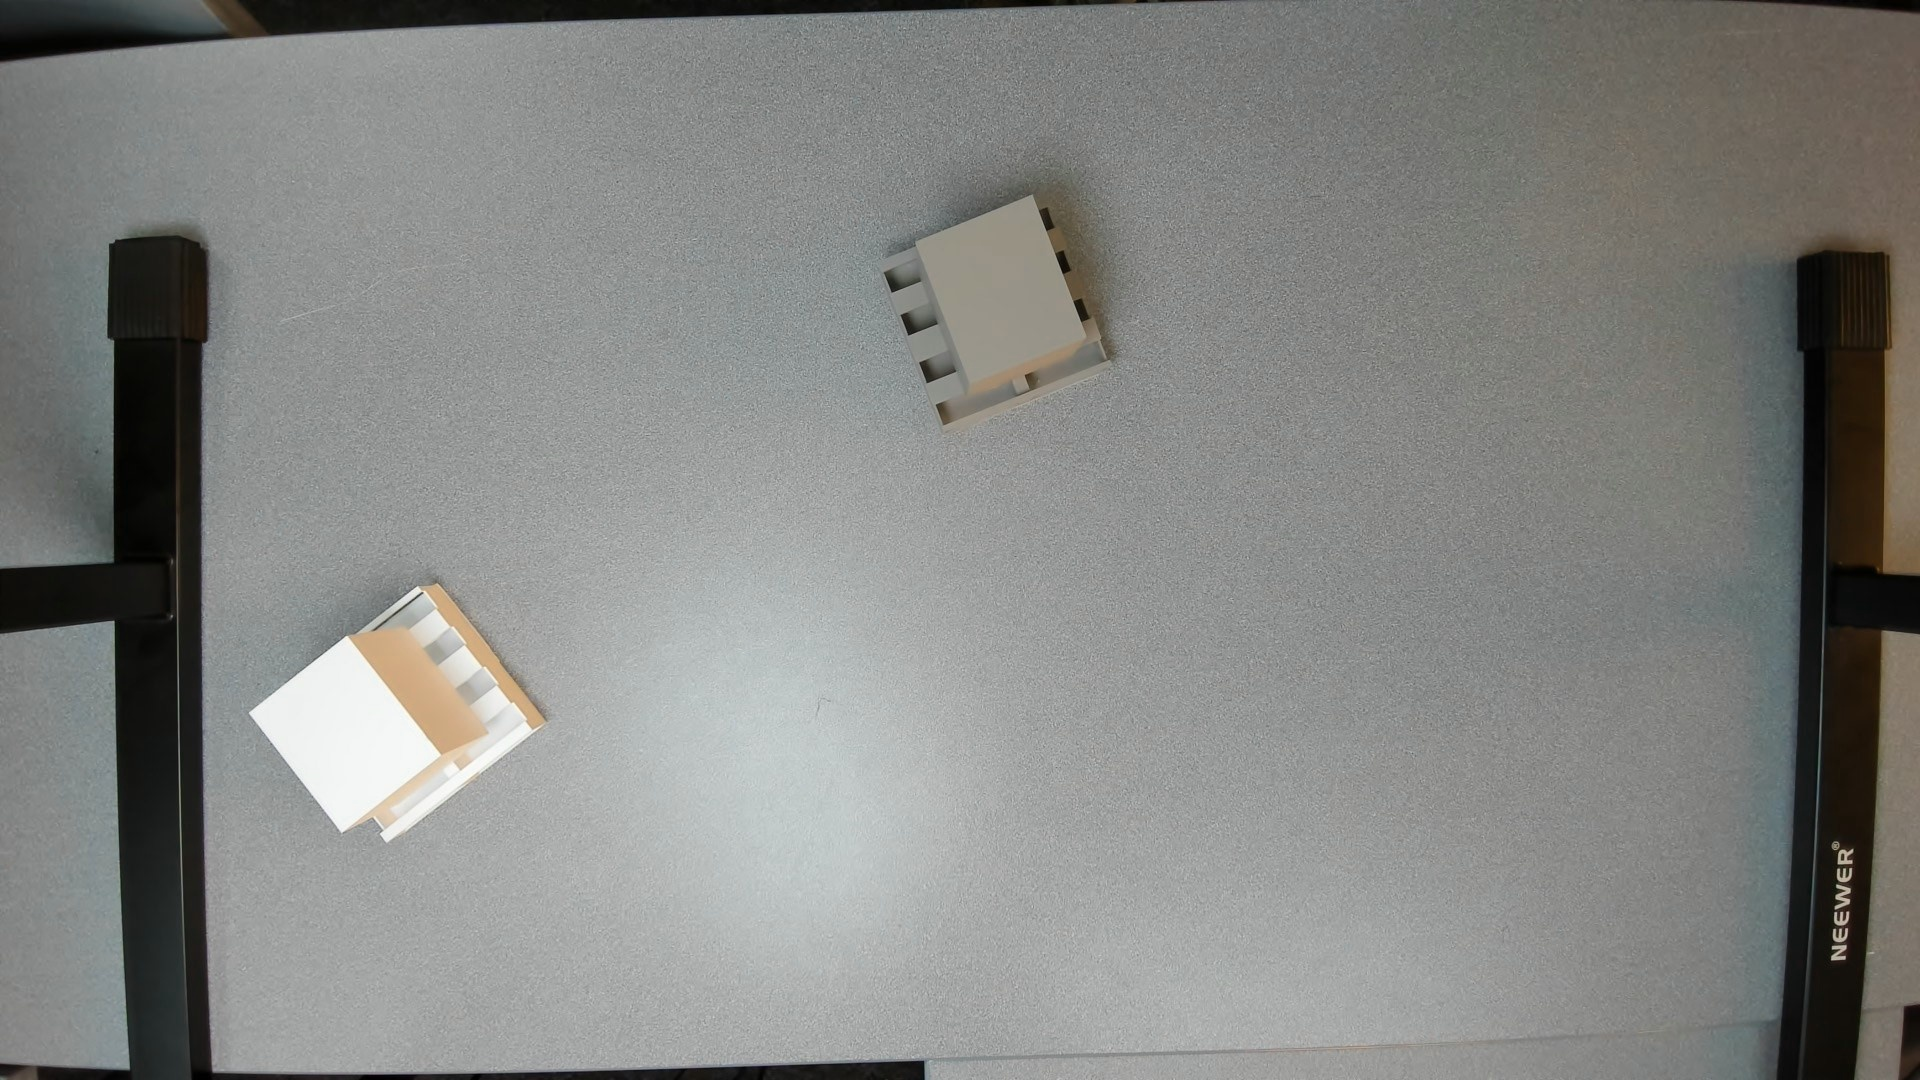grey pallet: (858, 189, 1135, 446)
white pallet: (241, 578, 556, 847)
